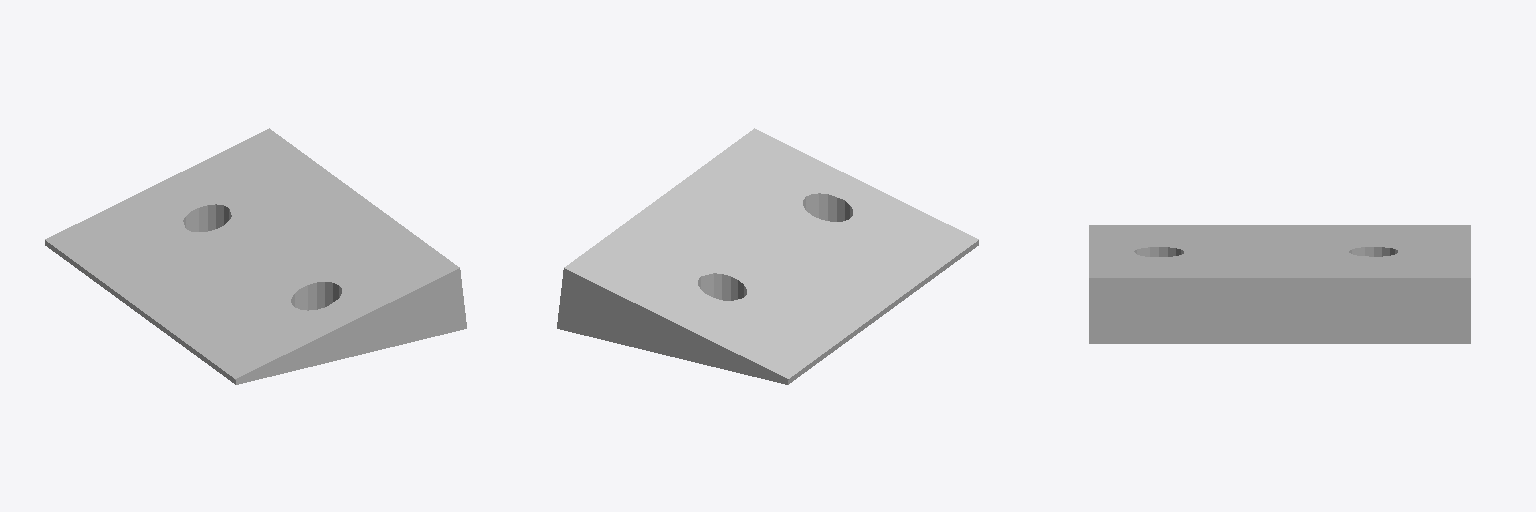
Rendered from DoorMechMang.obj.
3 renders of one model, left to right at view 1: azimuth 30°, elevation 25°; view 2: azimuth 150°, elevation 25°; view 3: azimuth 270°, elevation 25°, orthographic.
Parts seen in each view (by area): view 1: Cylinder001; view 2: Cylinder001; view 3: Cylinder001.
Part boxes in pixels (left/top/right/bottom): Cylinder001: left=45, top=128, right=466, bottom=384; Cylinder001: left=557, top=128, right=978, bottom=384; Cylinder001: left=1089, top=225, right=1470, bottom=343.
Size of the model in its own units: 140 by 36.16 by 200.